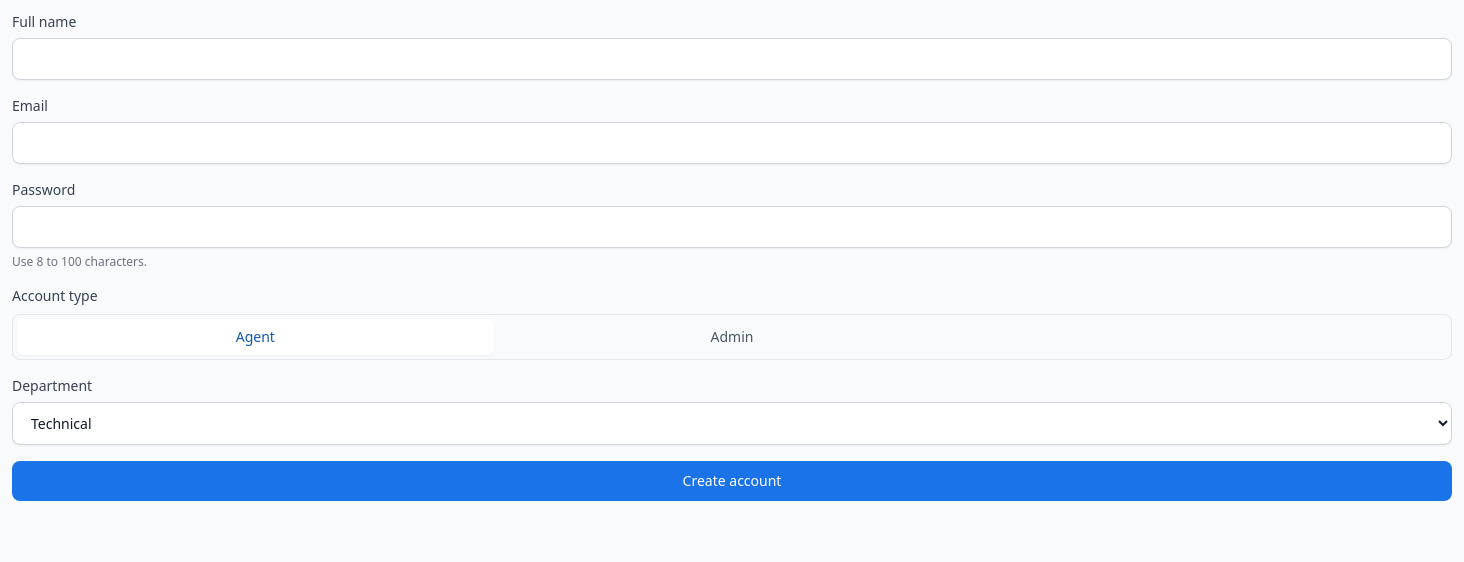
CreateUserForm › validates invalid fields and focuses the first one without calling the API
Click the button "Create account" at (732, 481), box [12,461,1452,501]
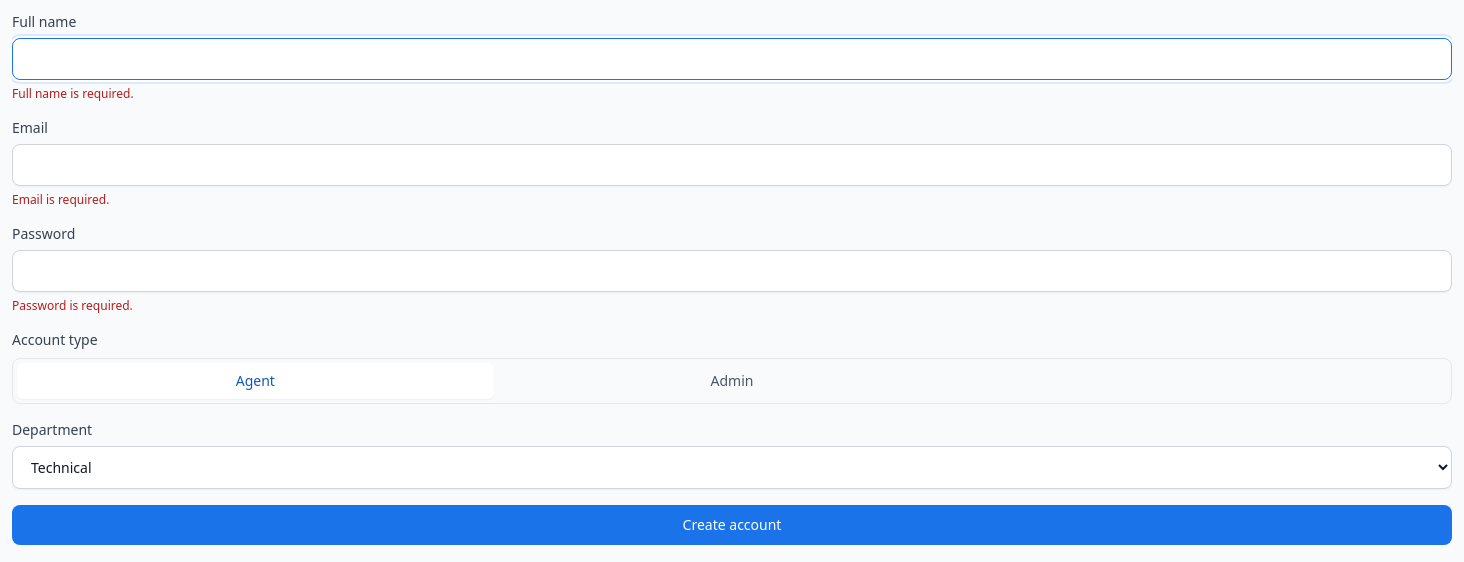
Now the text "Full name is required." is shown, box [12,85,134,102]
